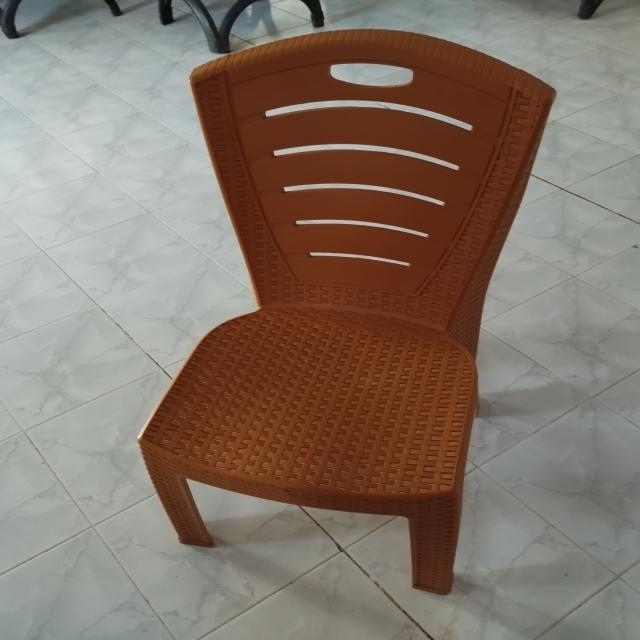chair: (123, 16, 602, 610)
